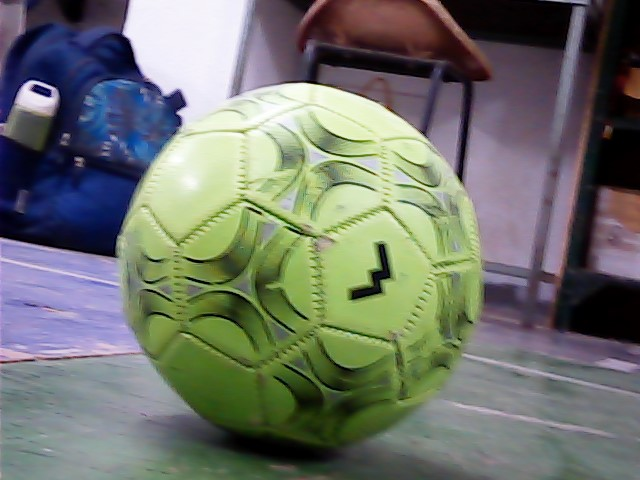Green_ball: (112, 84, 507, 454)
